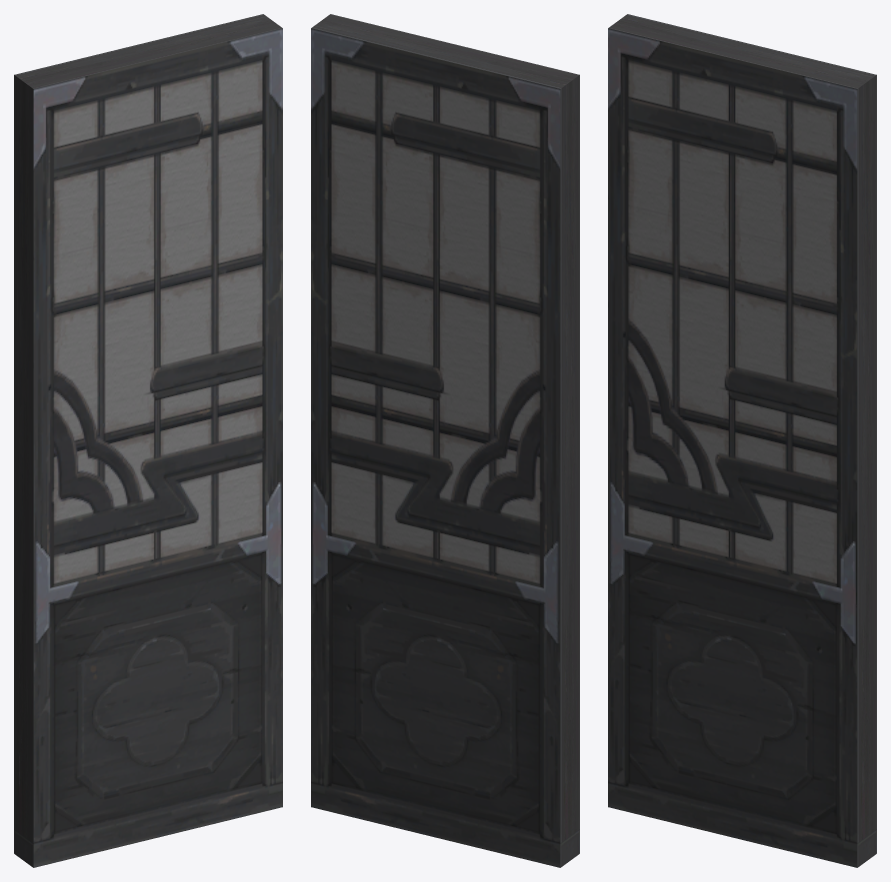
File: Homeworld_Interior_Dq_Room_Door_02_02_Vo.fbx
3 renders of one model, left to right at view 1: azimuth 30°, elevation 25°; view 2: azimuth 150°, elevation 25°; view 3: azimuth 330°, elevation 25°, orthographic.
Visible parts, largest first — view 1: Homeworld_Interior_Dq_Room_Door_02_02_Vo; view 2: Homeworld_Interior_Dq_Room_Door_02_02_Vo; view 3: Homeworld_Interior_Dq_Room_Door_02_02_Vo.
Boxes of the visible parts, <box> form: Homeworld_Interior_Dq_Room_Door_02_02_Vo: <box>14,14,282,867</box>; Homeworld_Interior_Dq_Room_Door_02_02_Vo: <box>311,14,579,867</box>; Homeworld_Interior_Dq_Room_Door_02_02_Vo: <box>608,14,876,867</box>.
Bounding box in the file's own units: 1.11 × 3.32 × 0.15.
